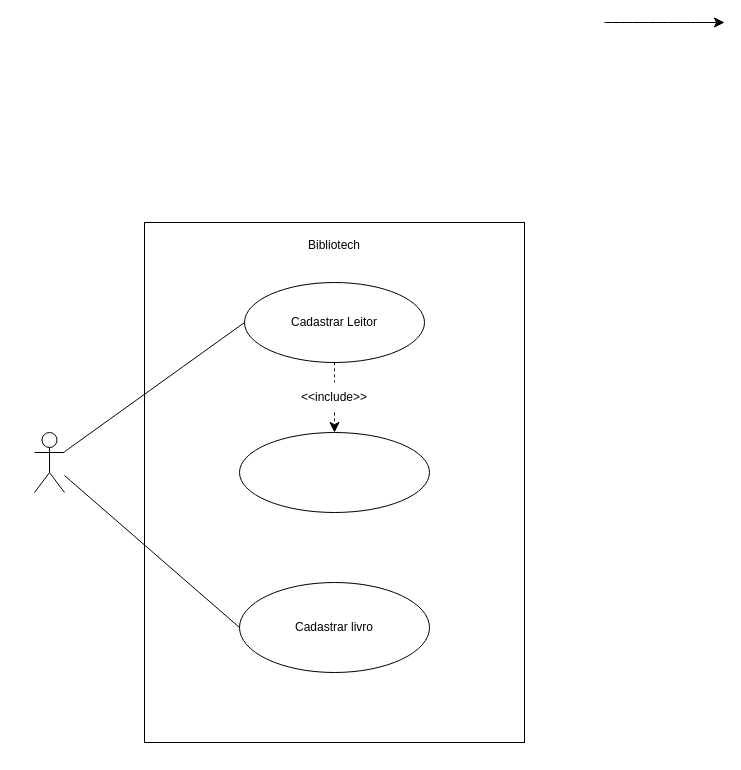
This 741x770 diagram has some shape labels left out. Each missing label, with the centre of its shape:
Bibliotecário: the point at 49,462
Identificar leitor: the point at 334,472
